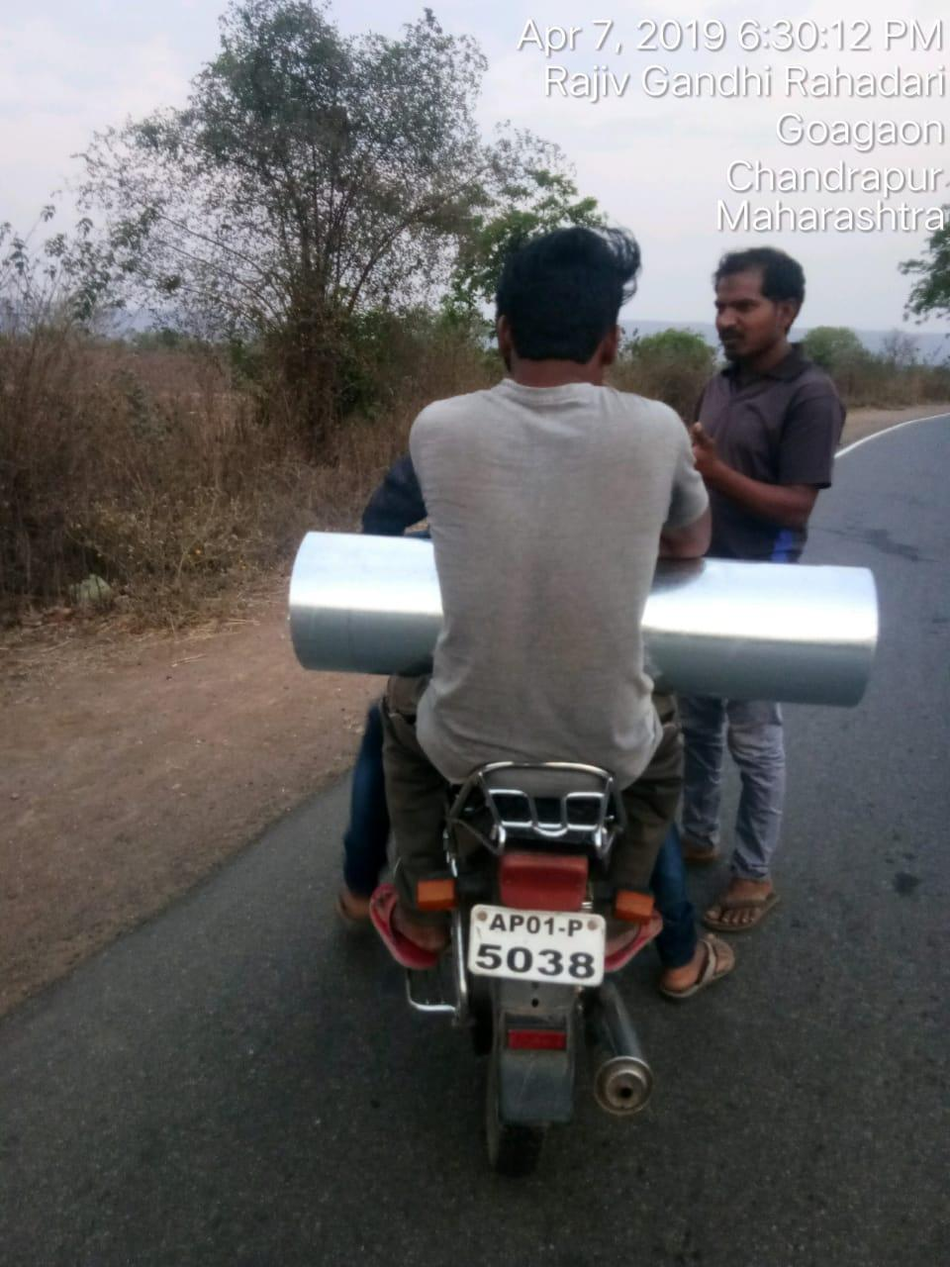plate: (432, 889, 629, 1019)
